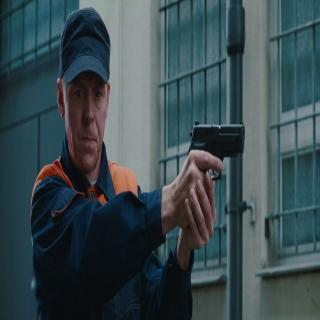gun: (186, 119, 245, 232)
